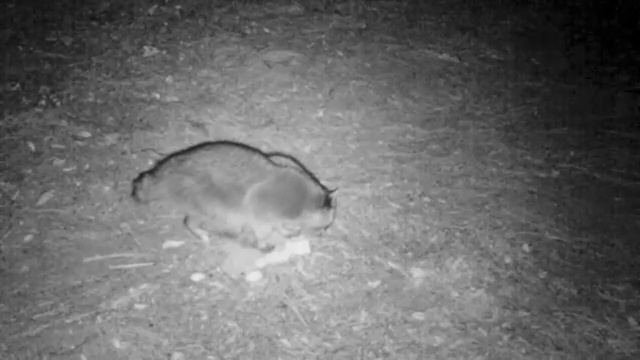raccoon: (130, 138, 344, 265)
